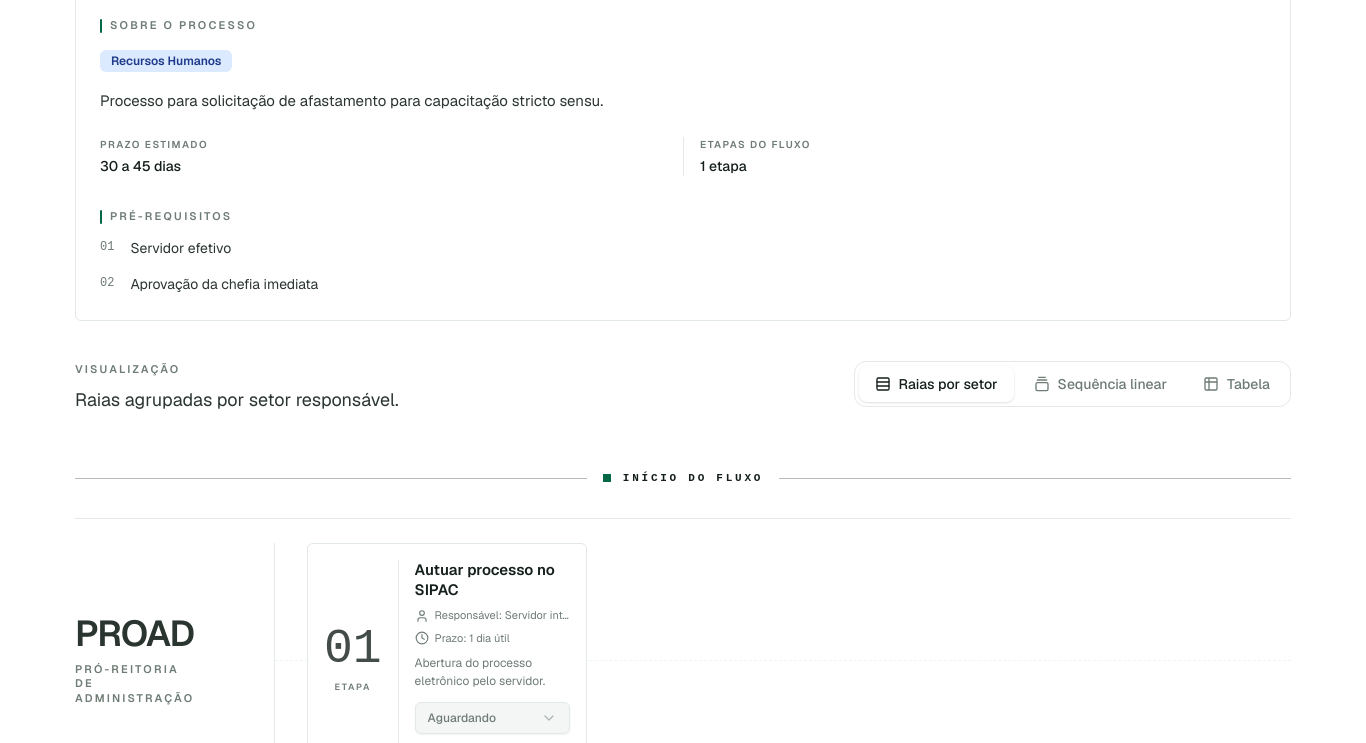
Test: <ProcessFlowPage /> — F-20 › permite alternar entre raias por setor, sequência linear e tabela
(page scrolled)
Expected: the text "Raias agrupadas por setor responsável." is shown, [75,386,399,414]
Click the tab "Sequência linear": (1100,384) [1018,366,1183,402]
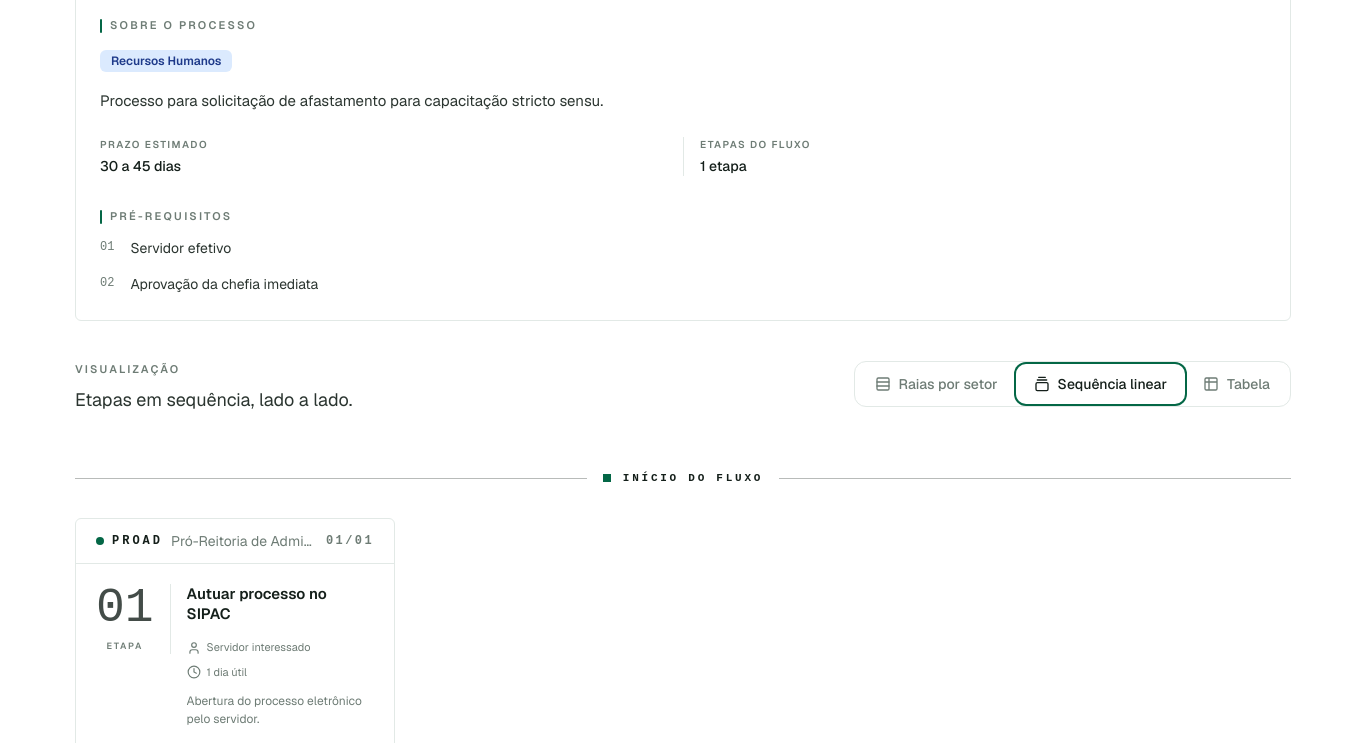
Expected: the text "Etapas em sequência, lado a lado." is shown, [75,386,352,414]
Click the tab "Tabela": (1236,384) [1187,366,1286,402]
(page scrolled)
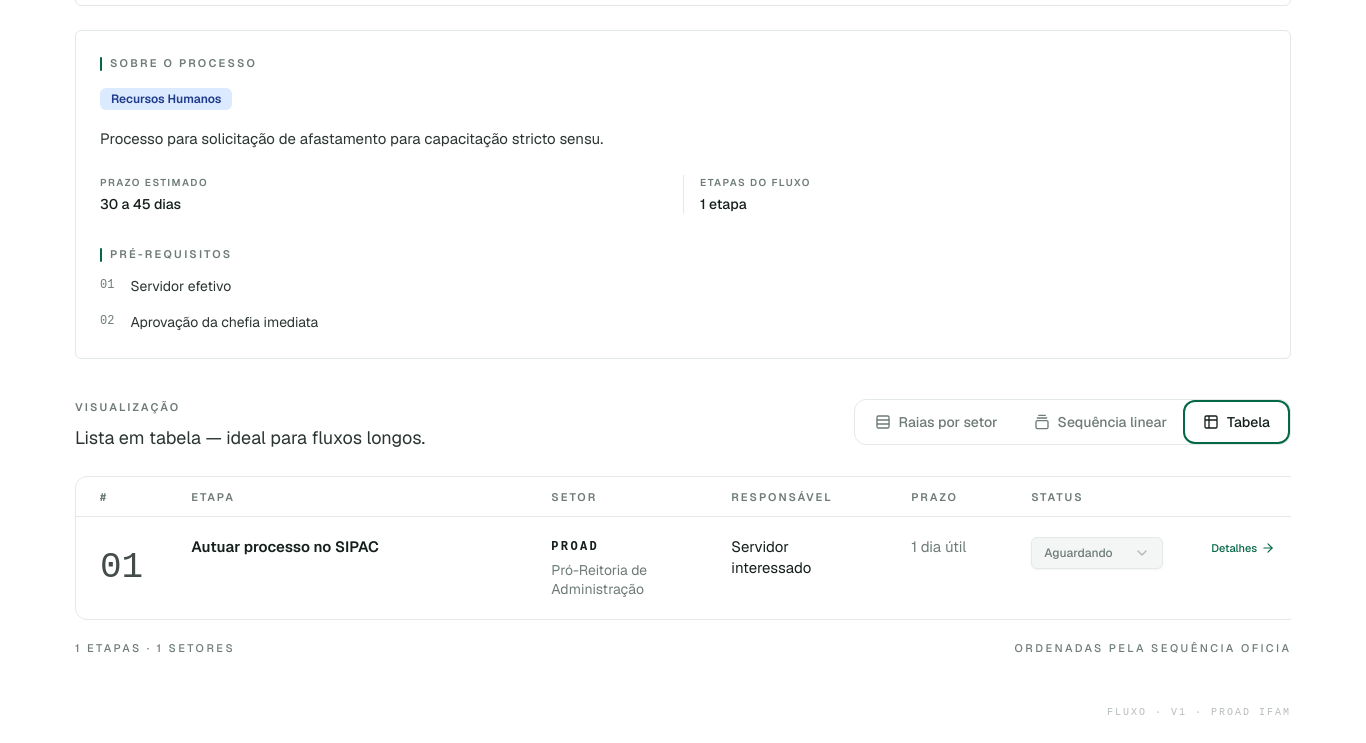
Expected: the text "Lista em tabela — ideal para fluxos longos." is shown, [75,424,425,452]
Expected: the table is shown, [76,477,1291,619]
Expected: the column heading "Status" is shown, [1007,477,1187,517]
